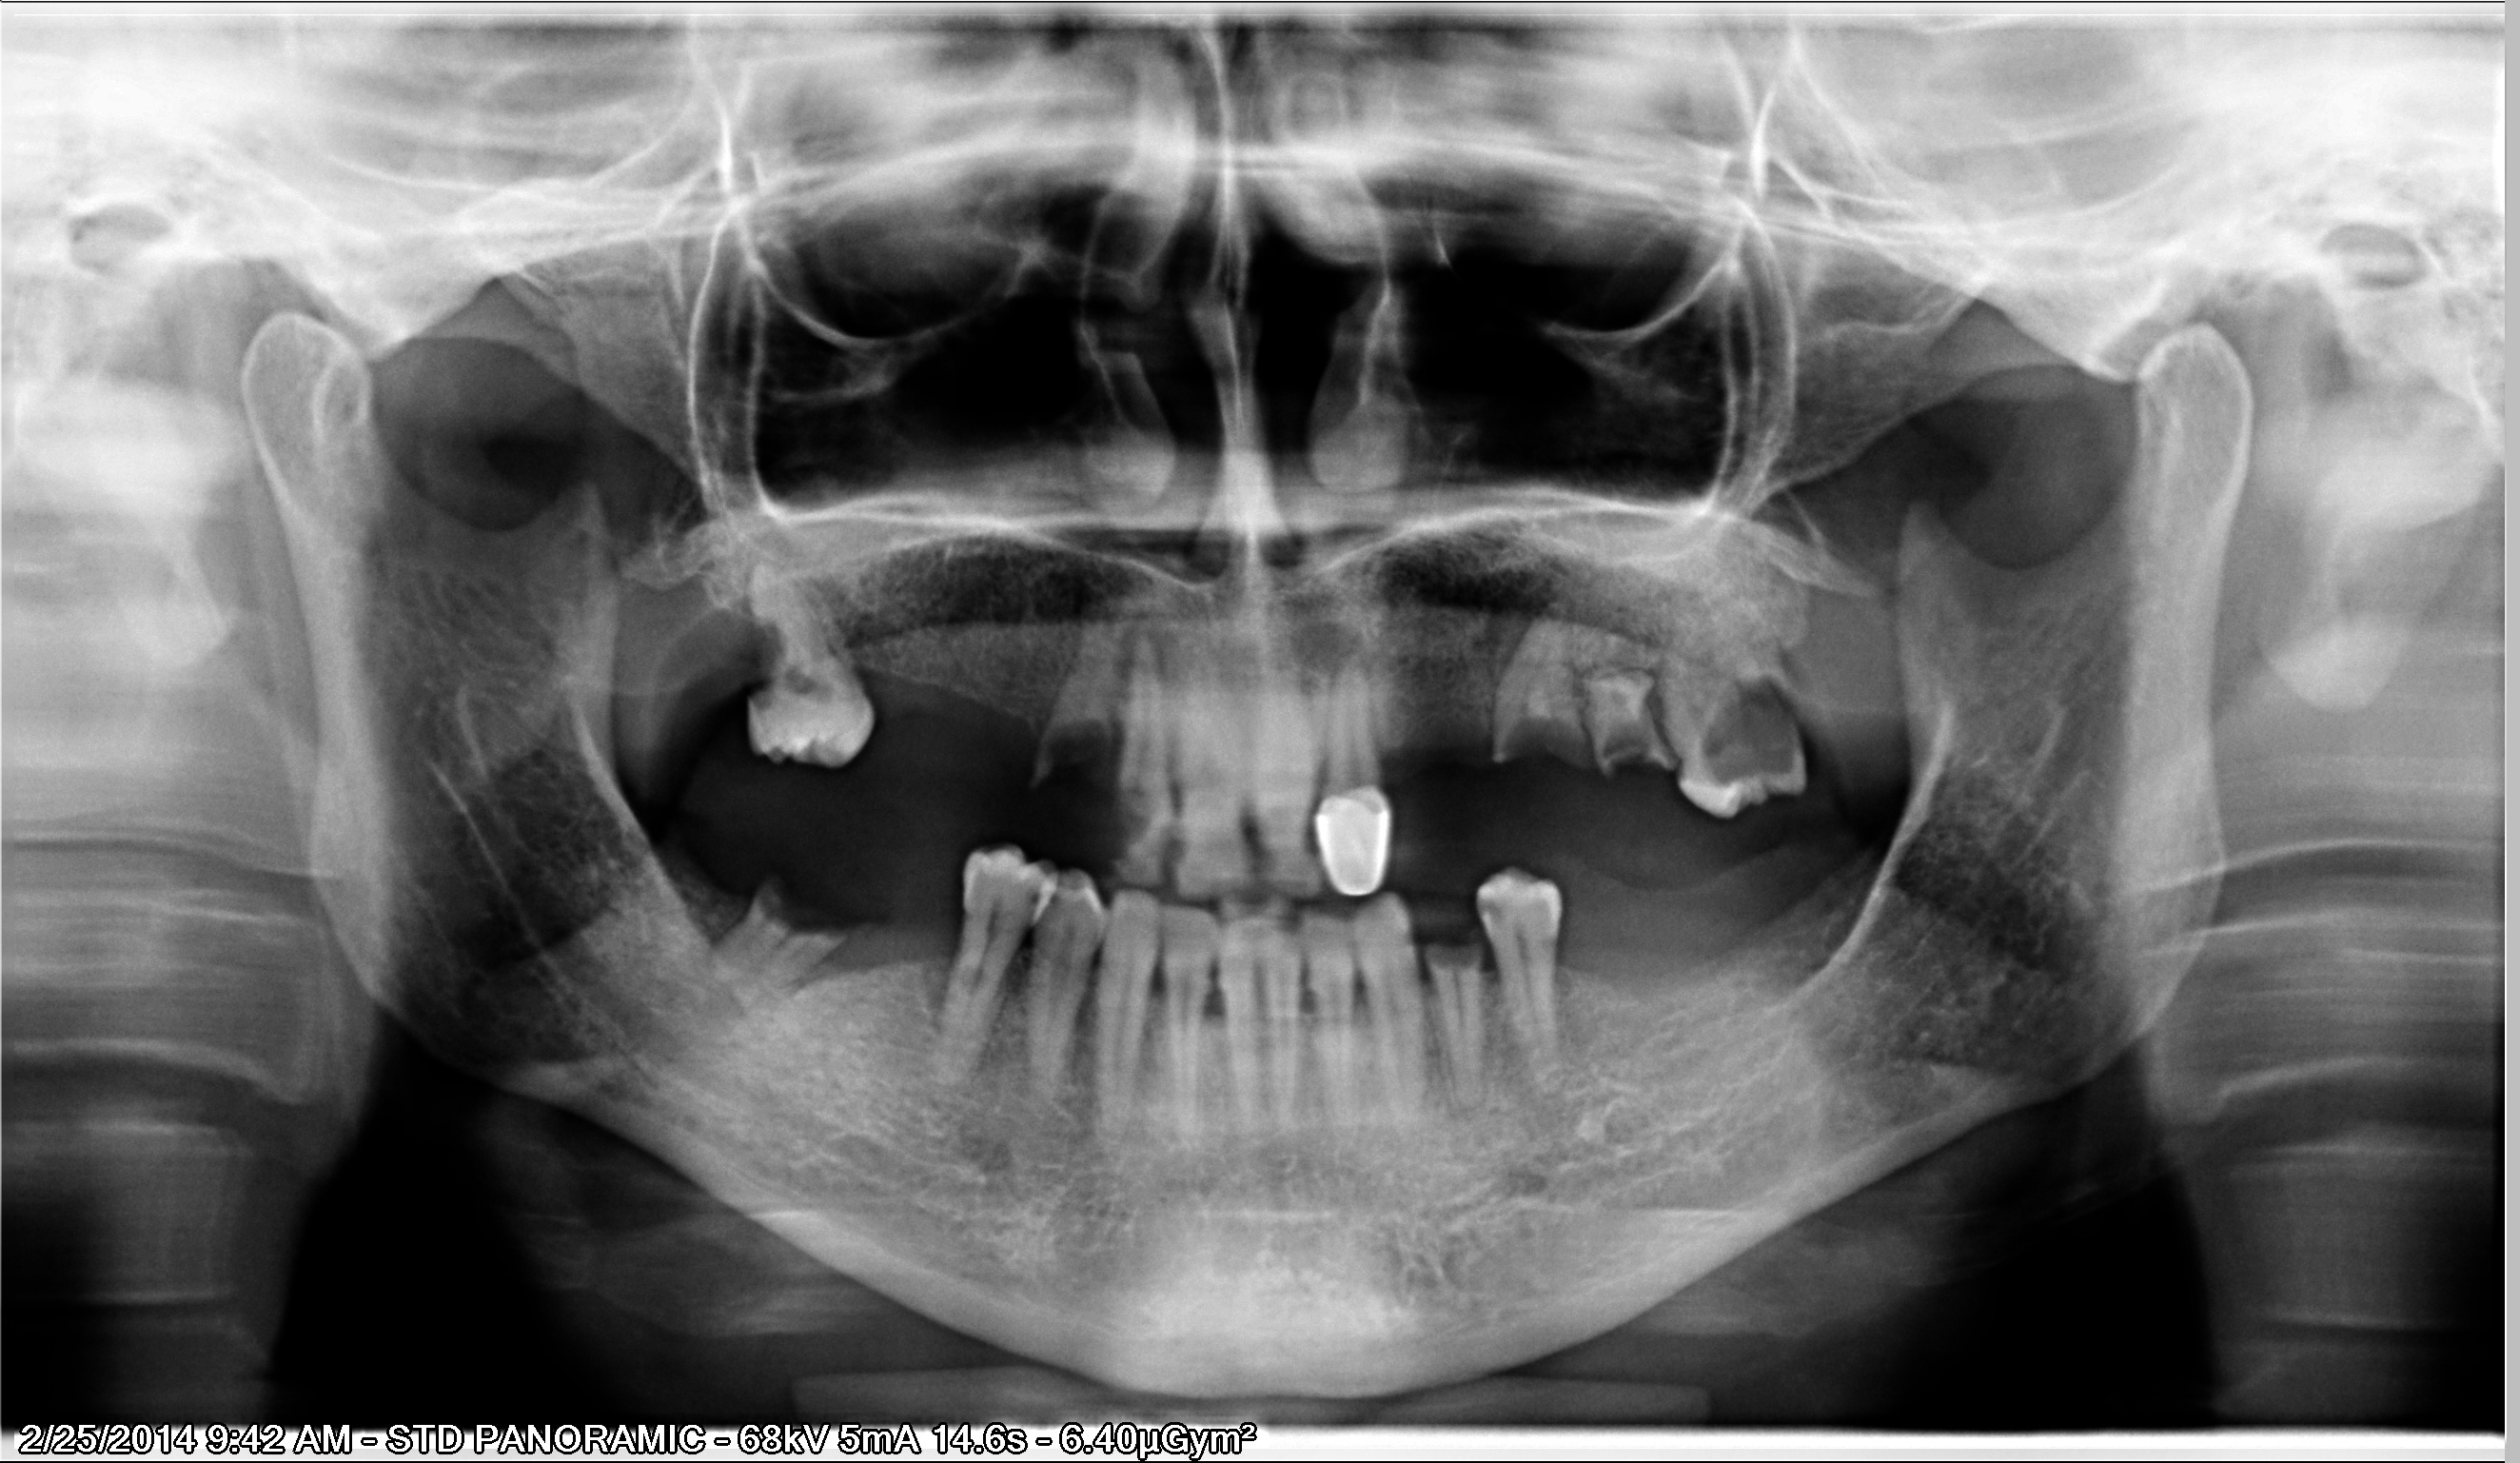BON: (741, 947, 921, 1015)
CAR: (1685, 674, 1810, 803), (1472, 707, 1589, 801), (726, 597, 813, 718), (1076, 777, 1180, 869), (1136, 808, 1229, 874), (1451, 874, 1523, 937), (1008, 878, 1056, 918)
PRR: (1305, 775, 1415, 921)
ROT: (1013, 603, 1159, 772), (1410, 923, 1514, 1146), (727, 904, 888, 1031), (668, 880, 834, 996), (1568, 648, 1678, 796)
